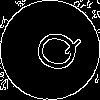Q: (25, 25, 82, 76)
